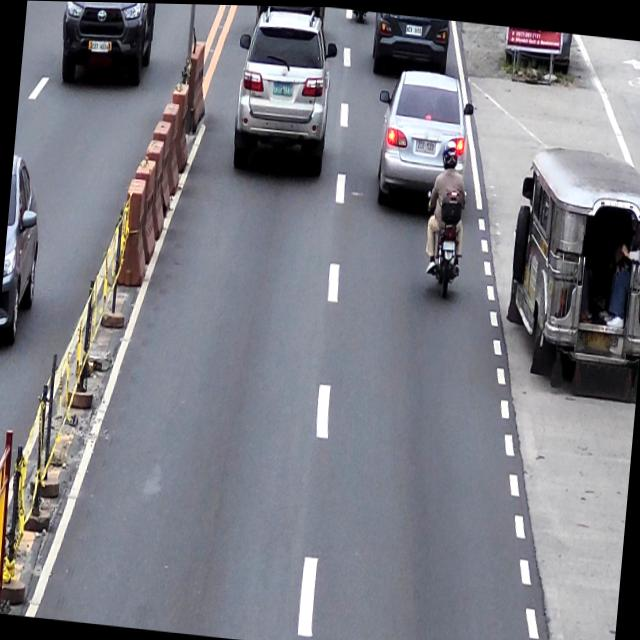Car: (227, 4, 338, 179), (372, 62, 472, 210)
Jeep: (505, 140, 640, 380)
License-Plate: (414, 133, 436, 154), (274, 78, 292, 95), (442, 237, 456, 248)
Motorcycle: (424, 136, 469, 293)
